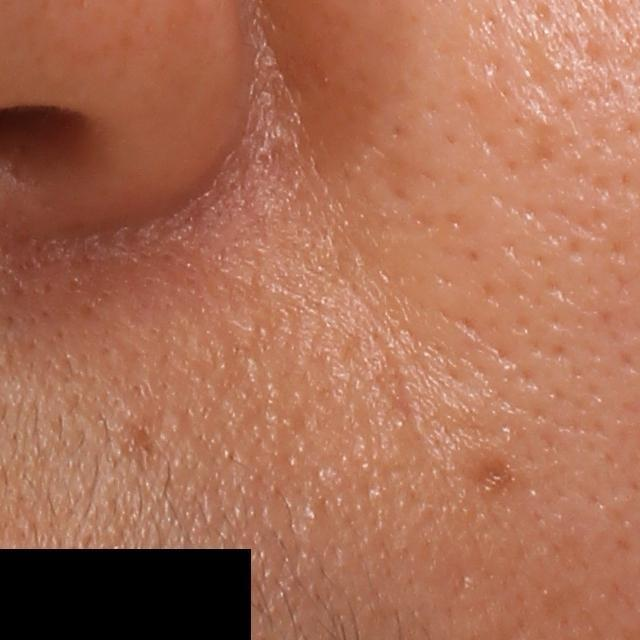nevus: (472, 456, 513, 495)
